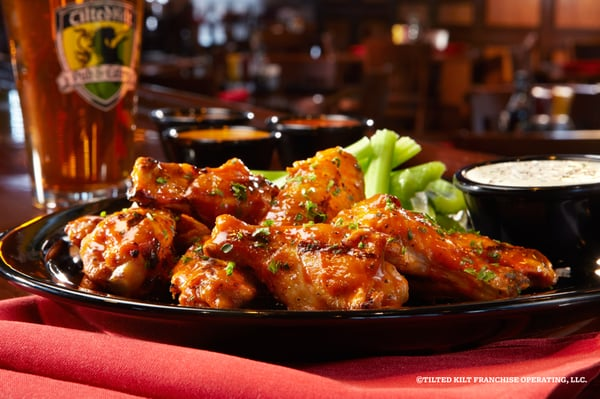pizza: (4, 1, 145, 214)
sushi: (453, 158, 600, 282)
